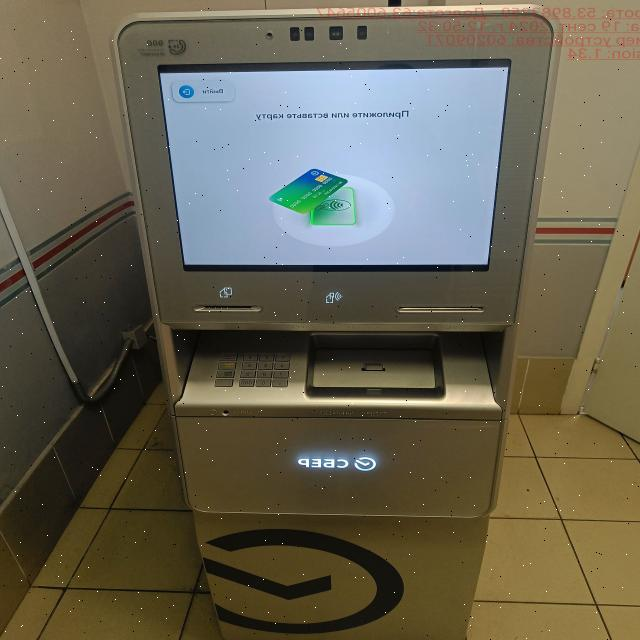bank: (113, 7, 550, 640)
